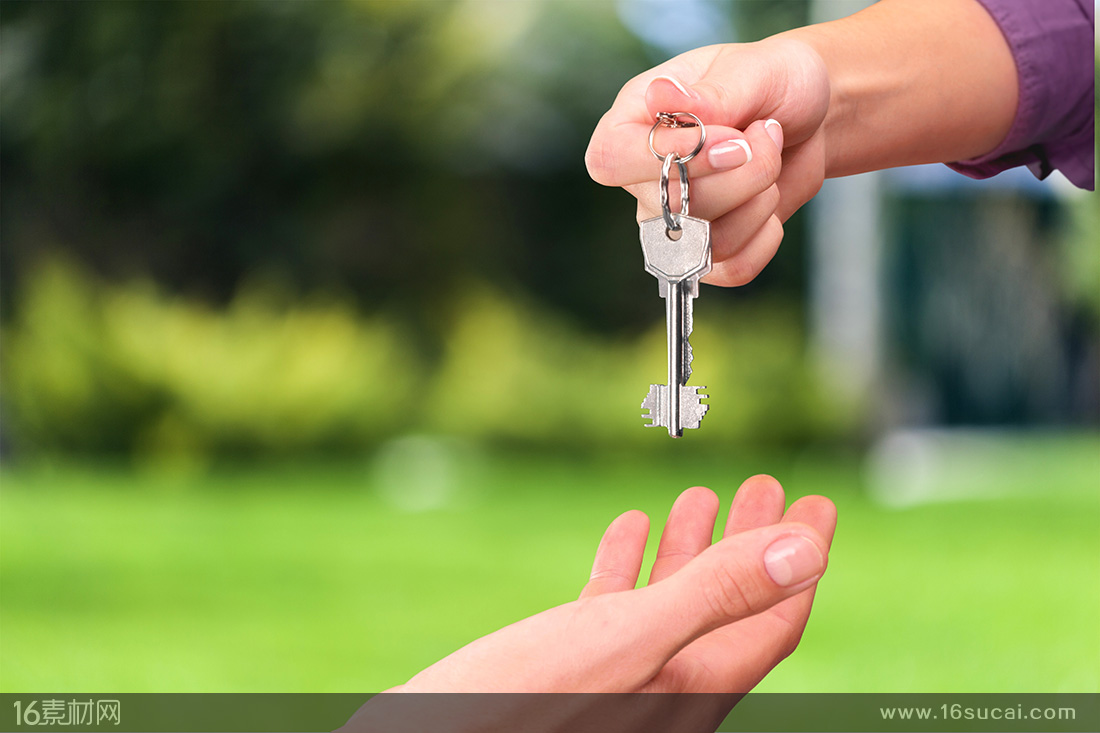key: (629, 212, 726, 443)
